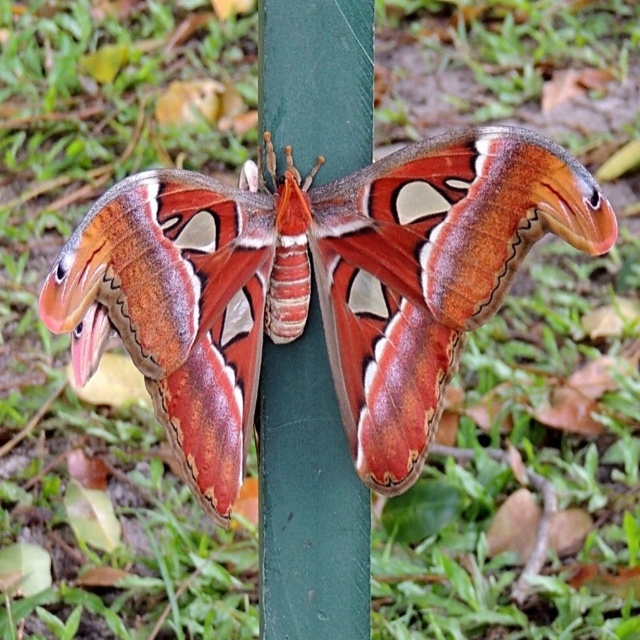Butterfly: (39, 133, 617, 530)
